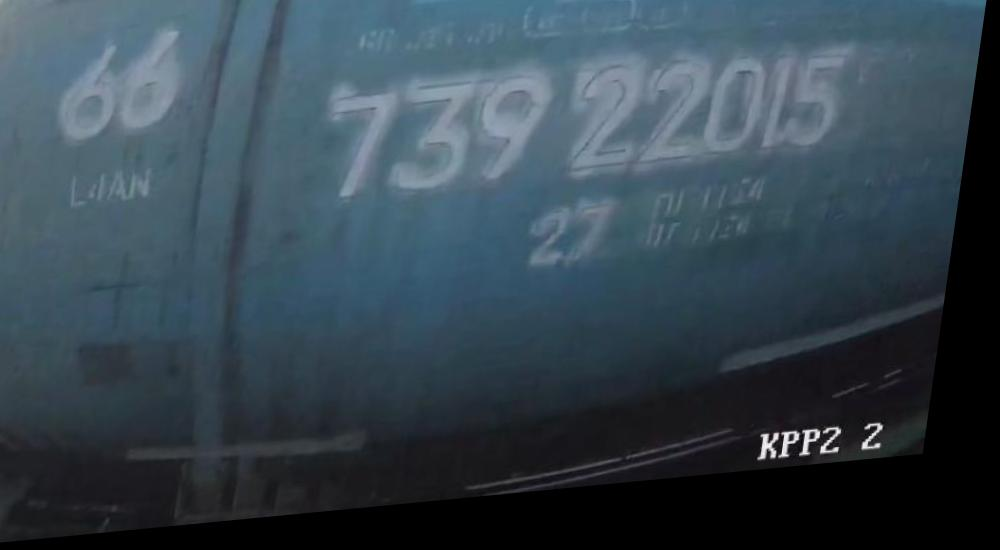Wagon-number: (316, 53, 860, 215)
